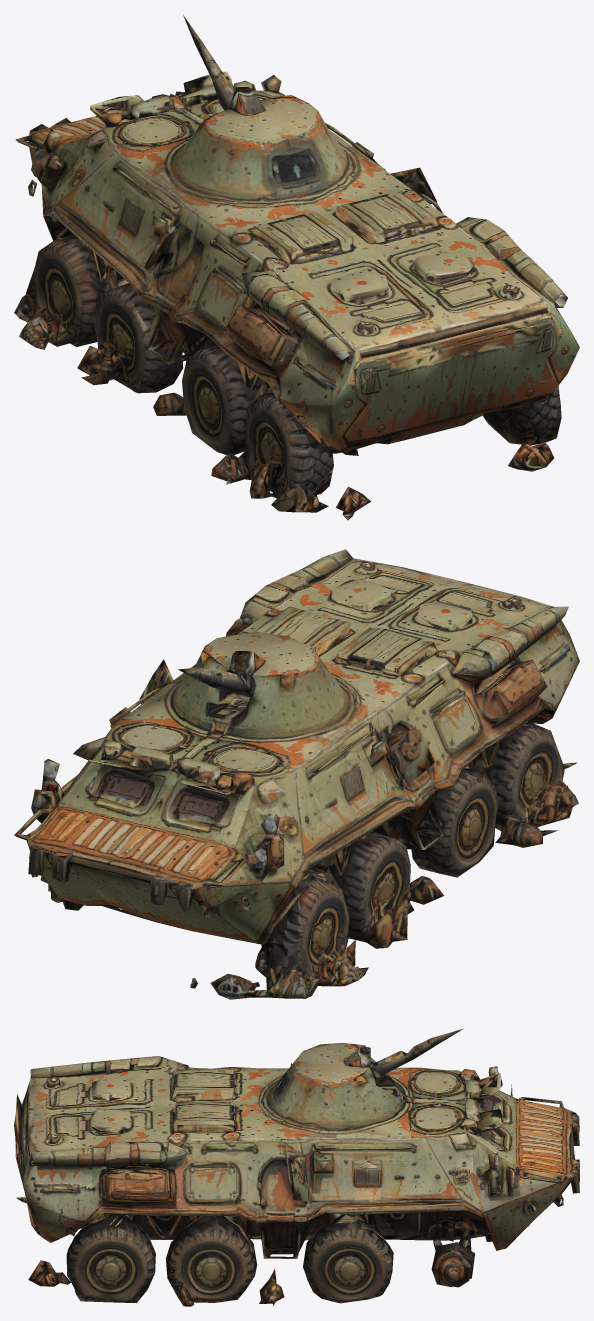
The model's file is Wreck_BTR80.fbx.
The picture shows the model from 3 angles, top to bottom: view 1: azimuth 30°, elevation 25°; view 2: azimuth 150°, elevation 25°; view 3: azimuth 270°, elevation 25°; orthographic projection. The views are drawn at different scales.
Parts seen in each view (by area): view 1: texture_mapping; view 2: texture_mapping; view 3: texture_mapping.
Part boxes in pixels (x1,y1,x2,y2): texture_mapping: [14, 15, 579, 520]; texture_mapping: [14, 549, 579, 999]; texture_mapping: [14, 1028, 579, 1306].
Size of the model in its own units: 0.5169 by 0.9925 by 0.4432.
1 material, 1 textured.
